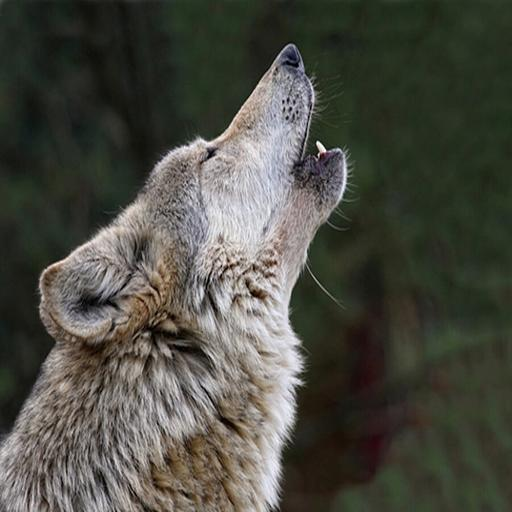Wolf: (0, 36, 356, 512)
